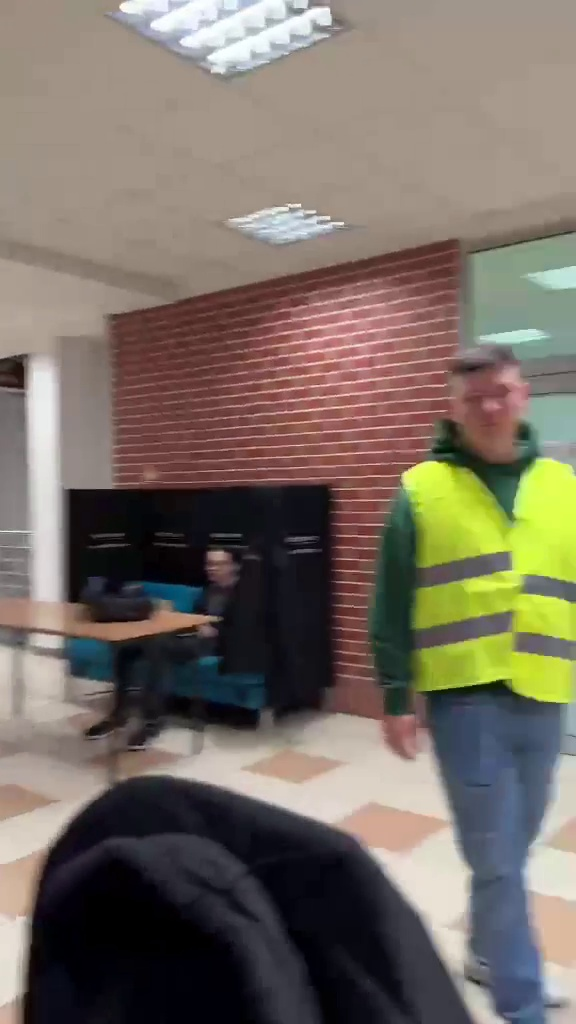no vest: (96, 531, 257, 744)
vest: (374, 331, 576, 1024)
